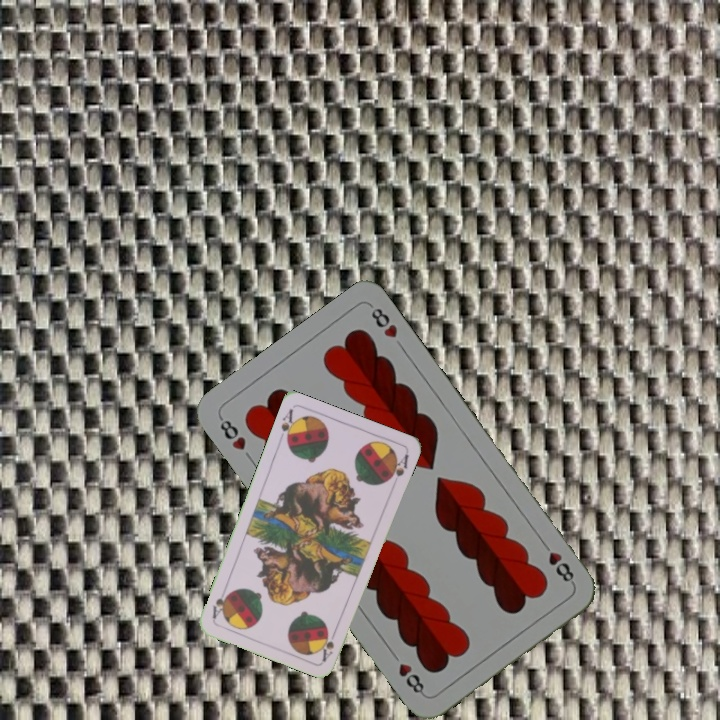H8: (537, 536, 577, 588), (215, 412, 249, 453)
SA: (277, 405, 299, 447), (318, 624, 339, 664)
